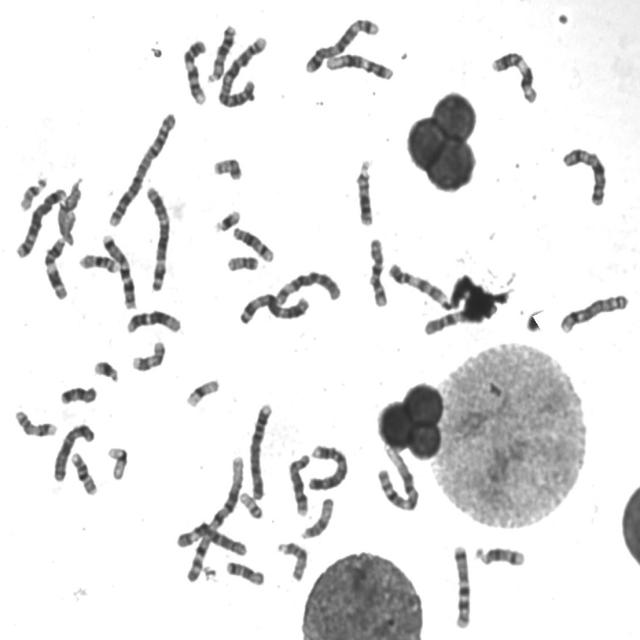A1: (182, 450, 247, 584), (374, 440, 422, 512)
A2: (106, 108, 179, 229), (215, 31, 270, 109)
A3: (142, 181, 173, 293), (237, 290, 312, 325)
B4: (246, 399, 275, 502), (306, 440, 350, 492)
B5: (302, 14, 382, 74), (12, 183, 68, 260)
C10: (366, 234, 390, 308), (424, 310, 484, 338)
C11: (489, 48, 540, 105), (41, 234, 70, 302)
C12: (323, 49, 397, 82), (124, 306, 184, 336)
C6: (173, 519, 249, 558), (273, 266, 343, 307)
C7: (98, 230, 138, 310), (450, 540, 474, 630)
C8: (558, 290, 632, 335), (286, 450, 312, 518)
C9: (386, 259, 449, 306), (180, 35, 210, 107)
D13: (206, 20, 238, 85), (355, 156, 376, 228)
D14: (230, 223, 276, 264), (472, 541, 528, 569)
D15: (298, 493, 336, 541), (275, 538, 309, 583)
E16: (68, 449, 100, 497), (76, 250, 120, 274)
E17: (12, 406, 59, 439), (129, 337, 168, 373)
E18: (223, 558, 267, 588), (58, 382, 99, 406)
F19: (184, 375, 222, 409), (105, 443, 130, 481)
F20: (210, 153, 244, 182), (224, 252, 260, 273)
G21: (91, 356, 121, 384), (212, 206, 242, 233)
G22: (17, 172, 50, 212), (237, 489, 265, 521)
X: (560, 143, 610, 208), (50, 419, 97, 484)
